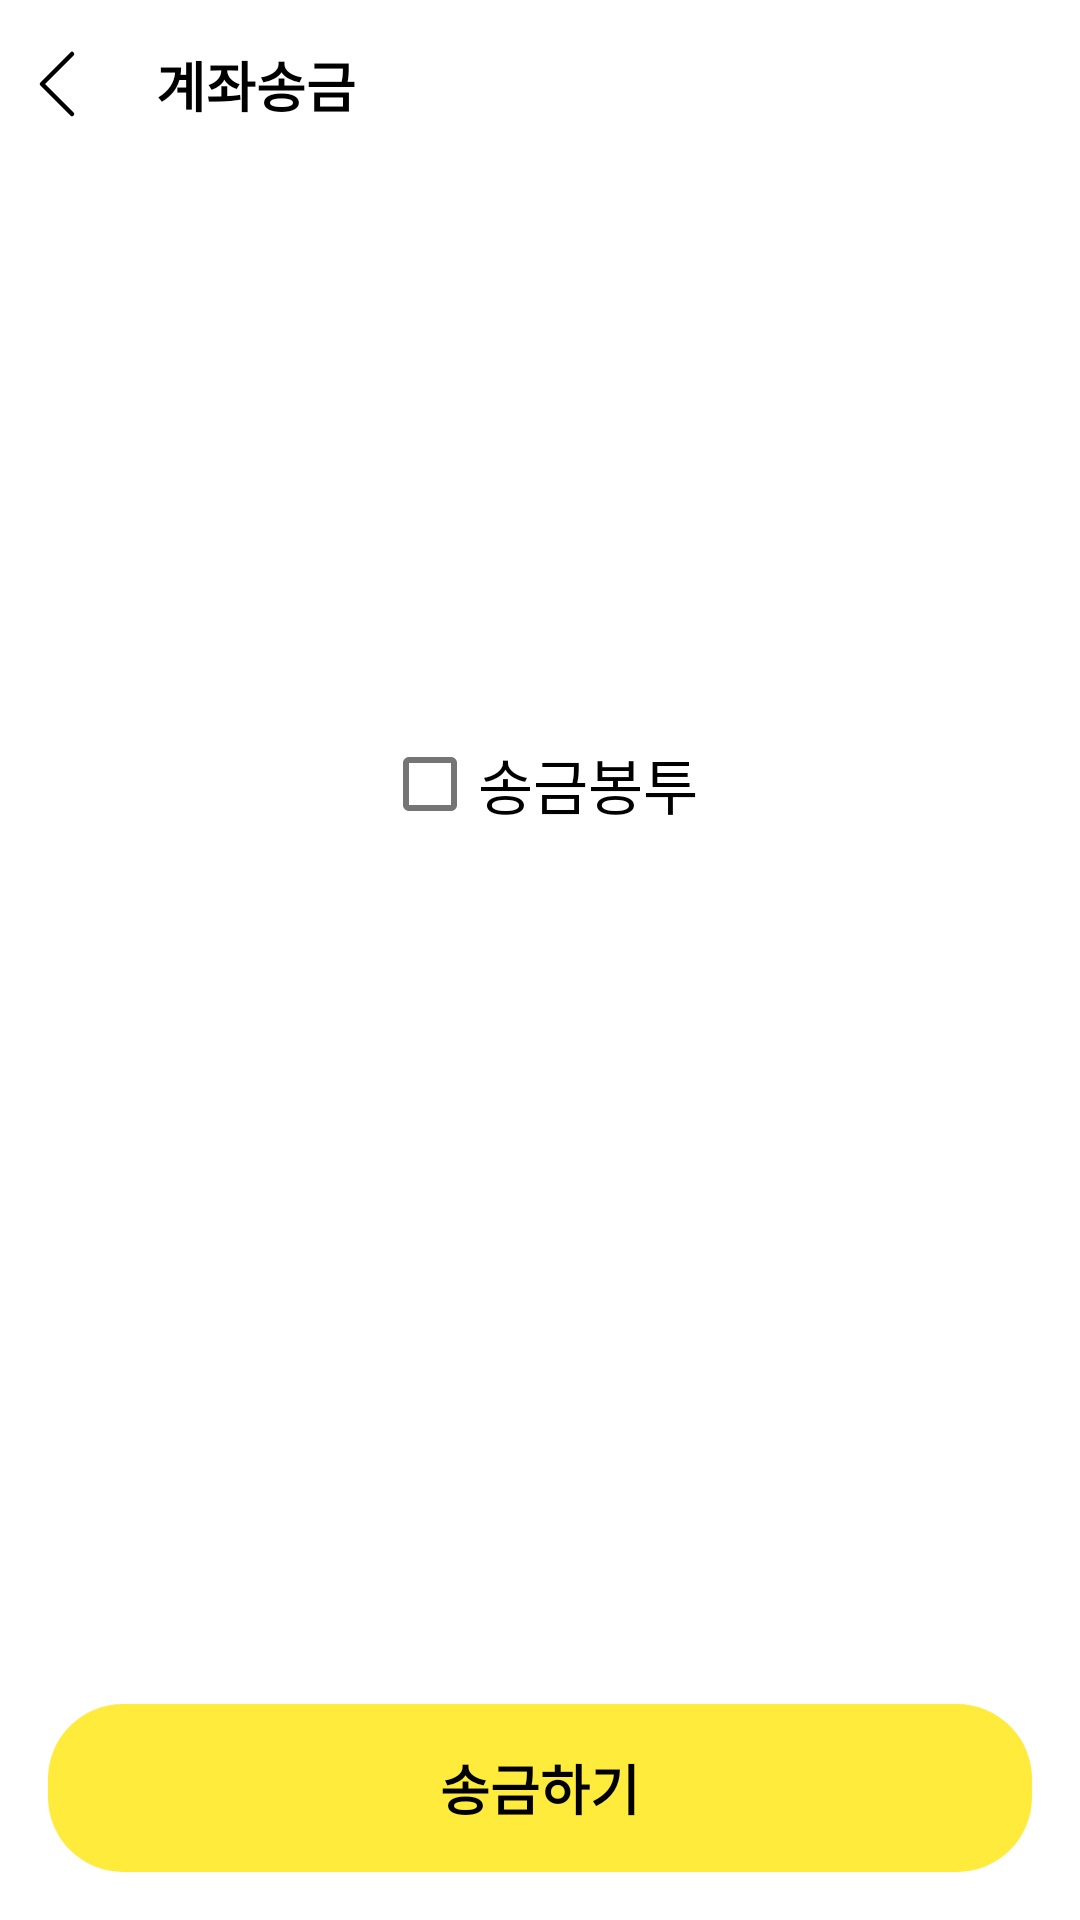

Where to tap for icons on this 1080w x 1920h app screen, as point (x, y):
navigation bar back: point (57, 84)
